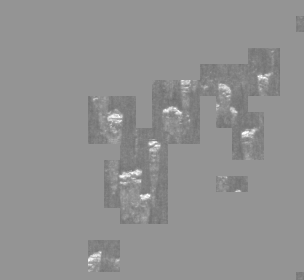oxl: (35, 10, 269, 270)
